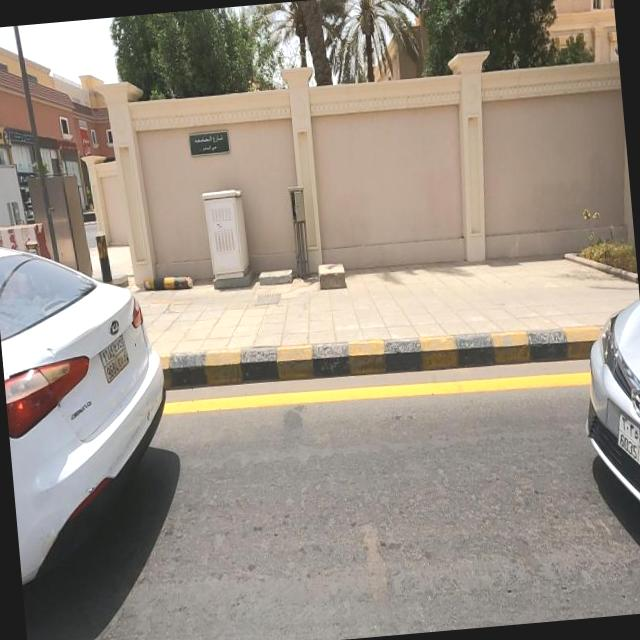debris: (95, 226, 234, 333)
